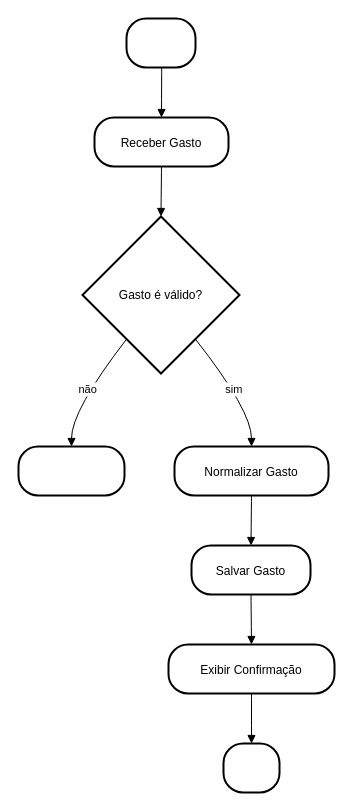
The diagram is 352 pixels wide and 810 high, and some of its shapes have lost their labels. Each missing label, with the centre of its shape:
Exibir erro: point (71, 470)
Fim: point (251, 767)
Início: point (160, 42)
